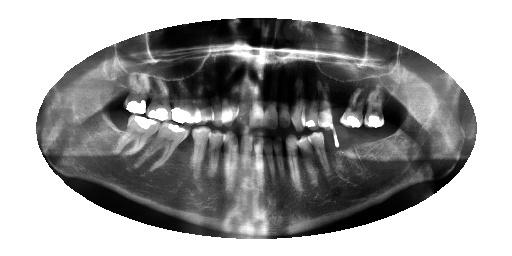Fillings: (112, 117, 161, 157), (152, 121, 189, 171), (172, 80, 202, 125), (147, 74, 173, 121), (340, 85, 367, 128), (125, 71, 148, 116), (365, 88, 386, 129)
